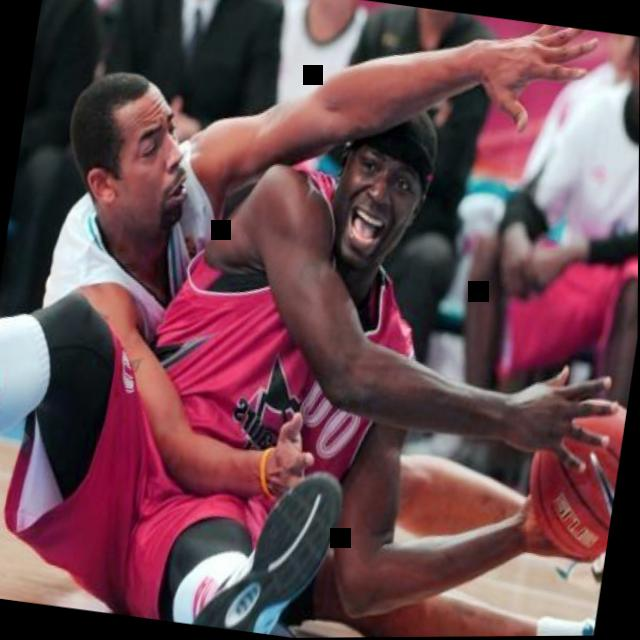Fall-Detected: (14, 0, 640, 640)
